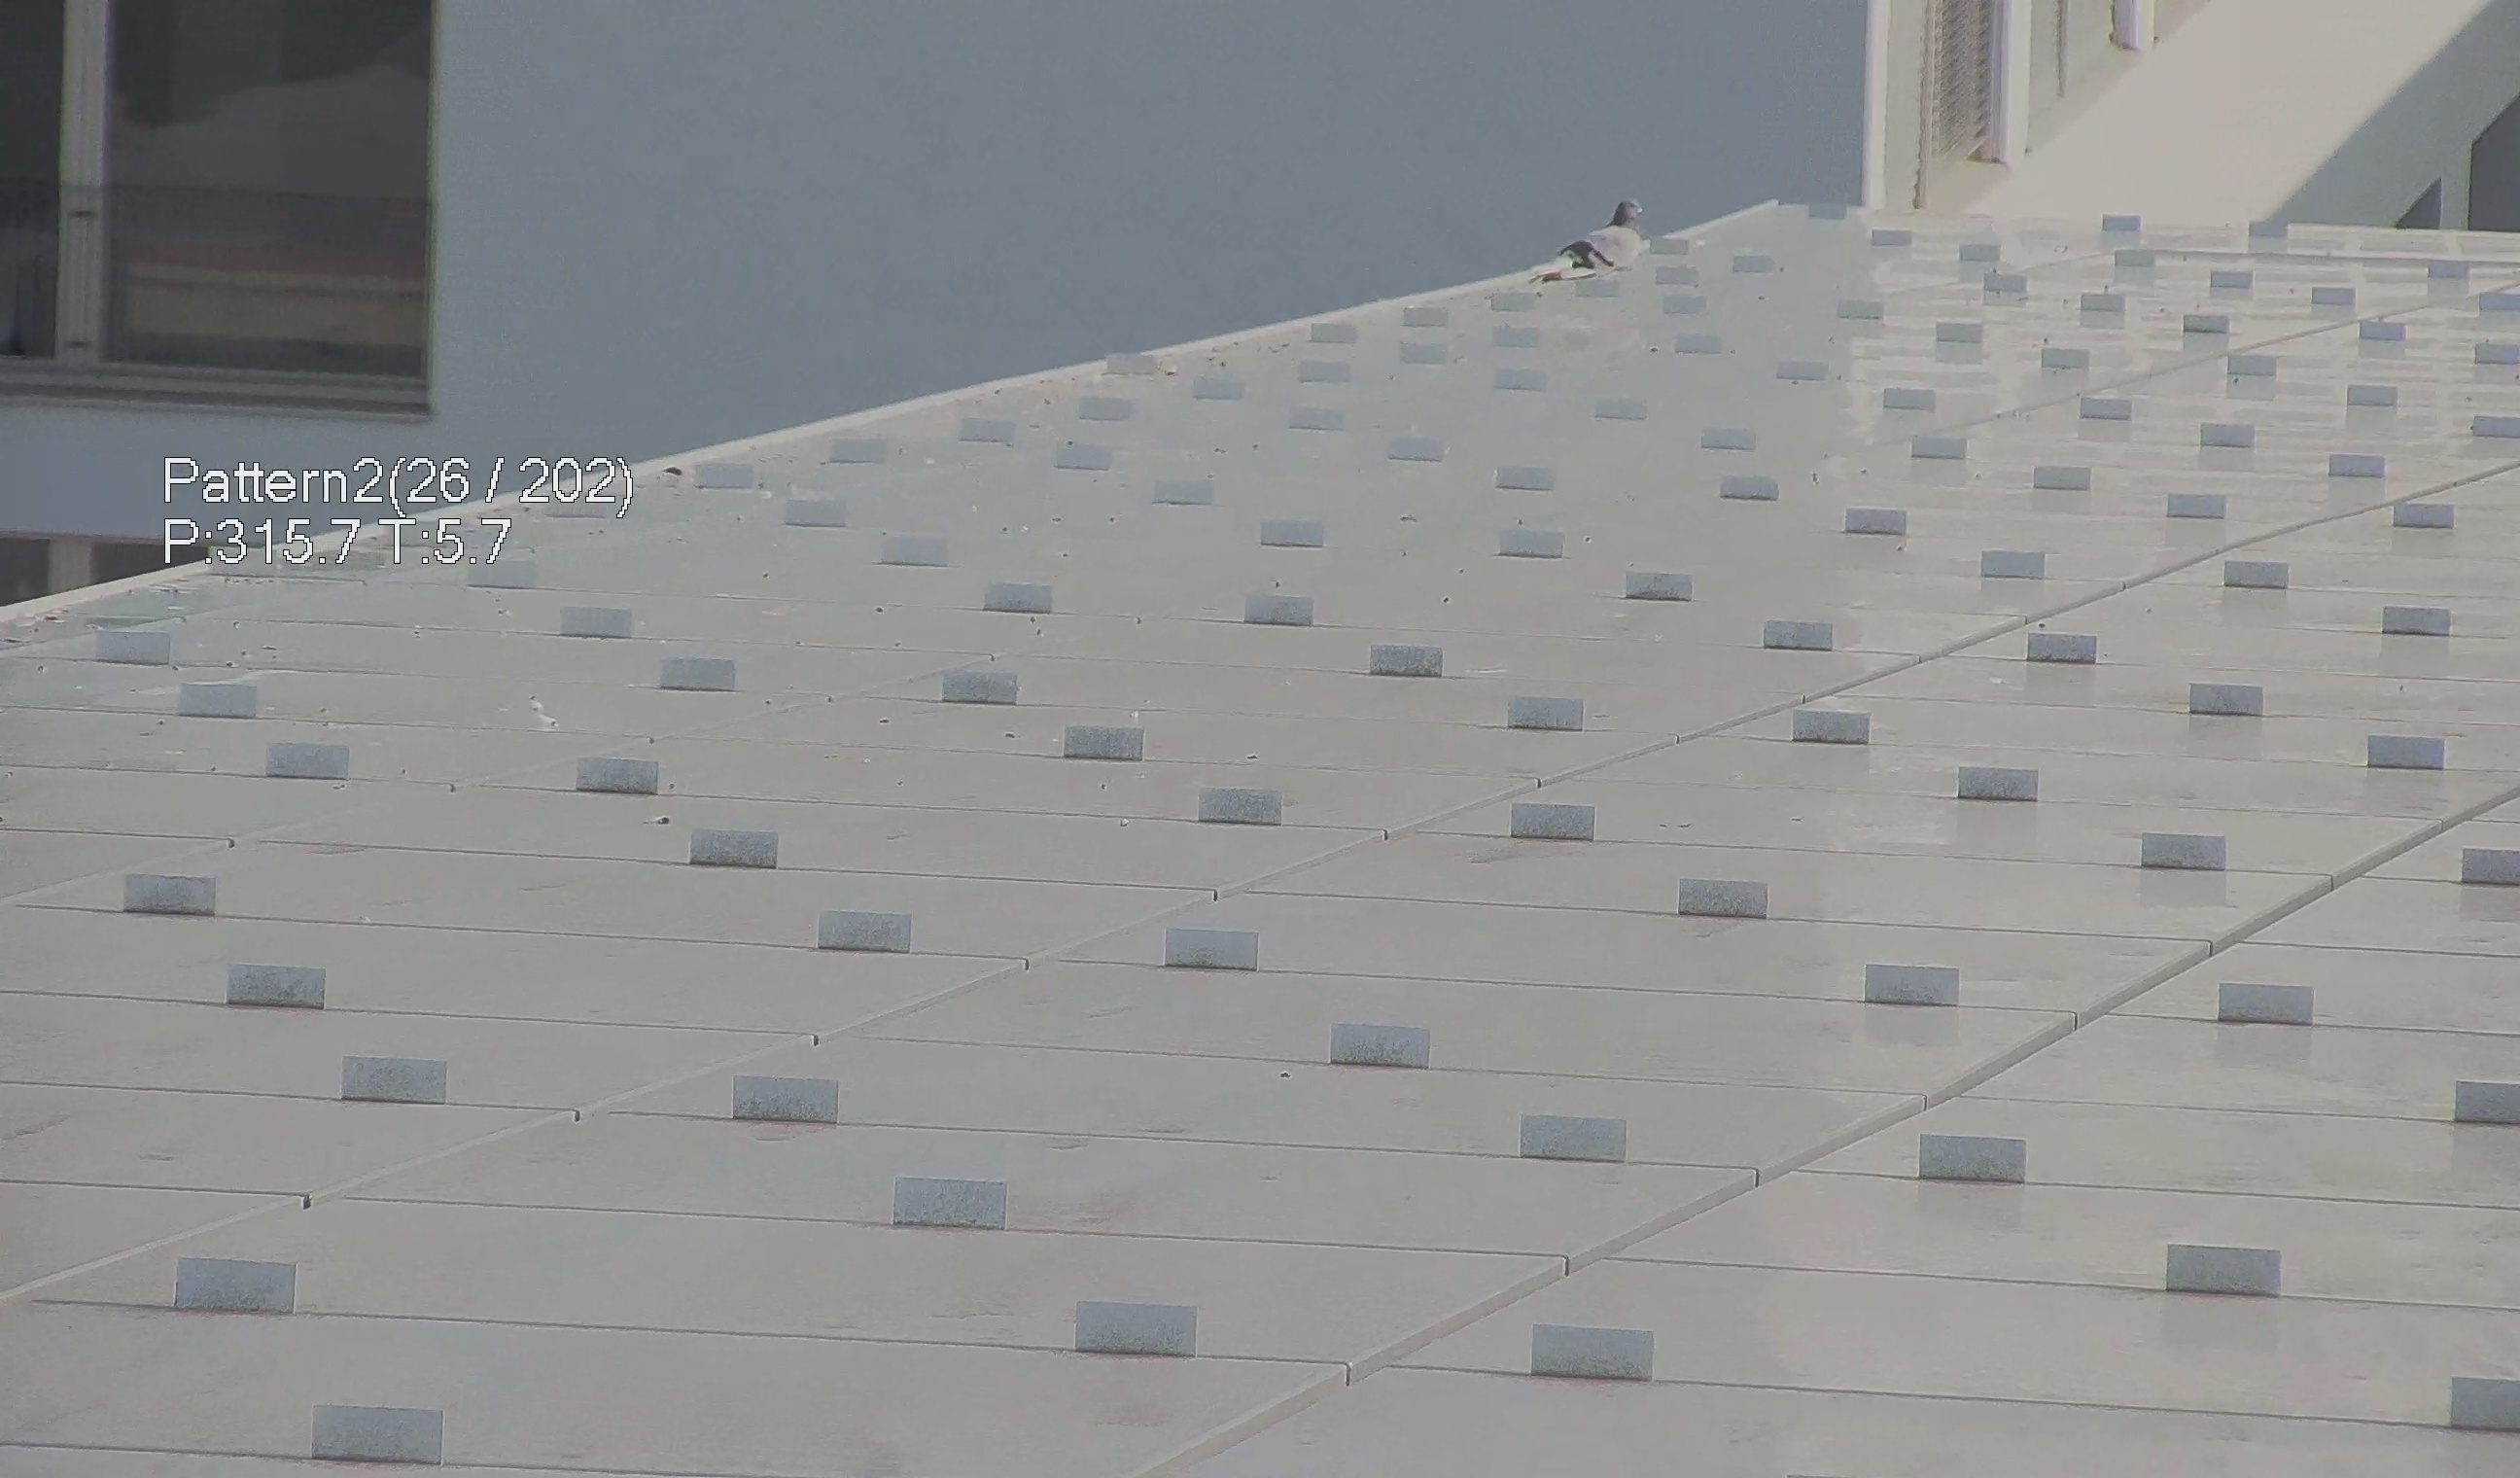Pigeon: (1553, 192, 1658, 280)
